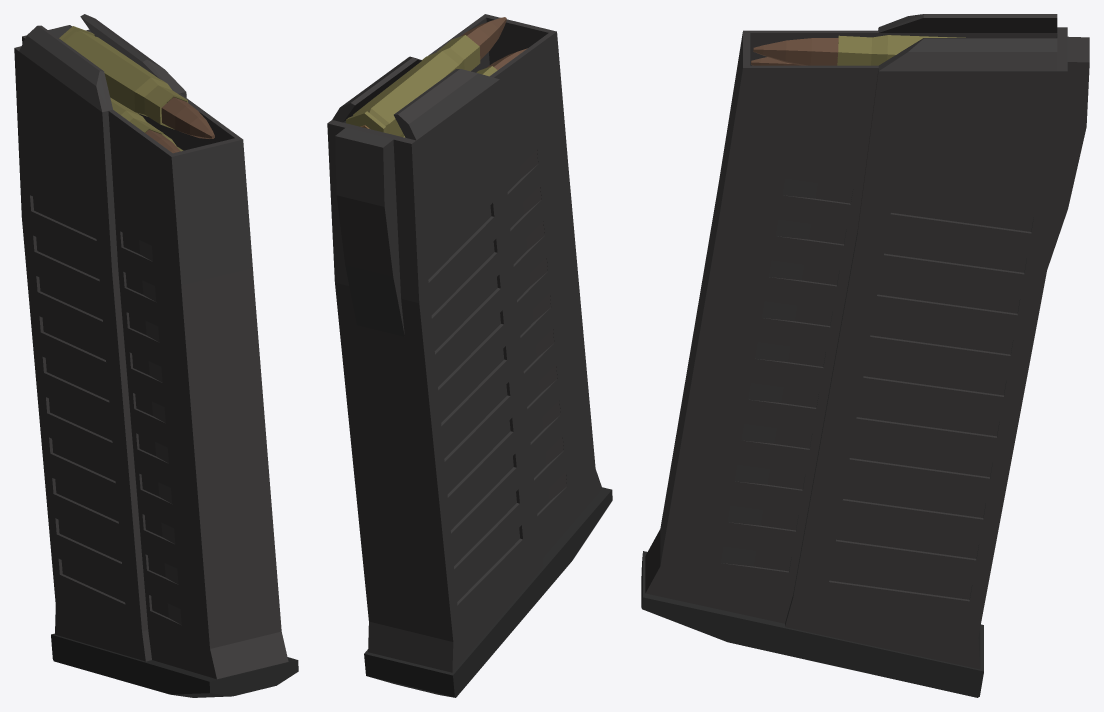
Rendered from SM_AK-308_Magazine.fbx.
3 views of the same model, side by side, from view 1: azimuth 30°, elevation 25°; view 2: azimuth 150°, elevation 25°; view 3: azimuth 270°, elevation 25° (orthographic). The views are drawn at different scales.
Parts seen in each view (by area): view 1: SM_AK-308_Magazine; view 2: SM_AK-308_Magazine; view 3: SM_AK-308_Magazine.
Boxes of the visible parts, bbox=[...] form: SM_AK-308_Magazine: bbox=[14, 14, 298, 697]; SM_AK-308_Magazine: bbox=[327, 14, 612, 697]; SM_AK-308_Magazine: bbox=[641, 14, 1089, 697].
Size of the model in its own units: 2.72 by 17.89 by 11.1.
